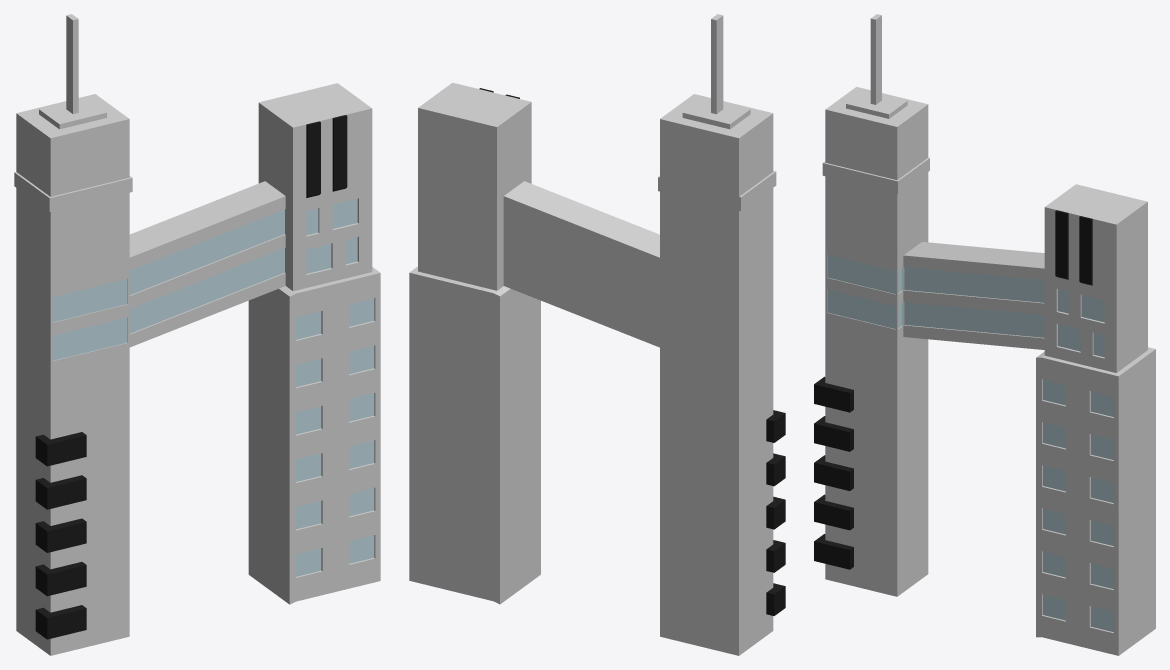
File: citytwin1.fbx
3 views of the same model, side by side, from view 1: azimuth 30°, elevation 25°; view 2: azimuth 150°, elevation 25°; view 3: azimuth 330°, elevation 25° (orthographic). The views are drawn at different scales.
Parts seen in each view (by area): view 1: pCube1; view 2: pCube1; view 3: pCube1.
Part boxes in pixels (x1,y1,x2,y2): pCube1: (14,14,380,655); pCube1: (409,14,785,655); pCube1: (814,14,1155,655).
Bounding box in the file's own units: 16.91 × 29.96 × 3.68.
